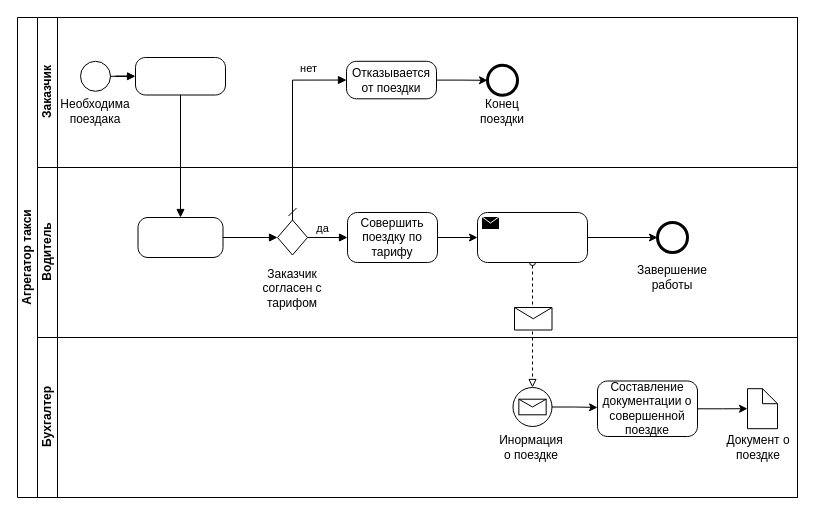
This 815x515 diagram has some shape labels left out. The shapes that lost their labels are listed below. From the top down, each one's centre as x and y in pixels, then its label:
the point at 180,75: Поиск такси
the point at 180,237: Предложить тариф
the point at 532,237: Сообщение деталей поездки
